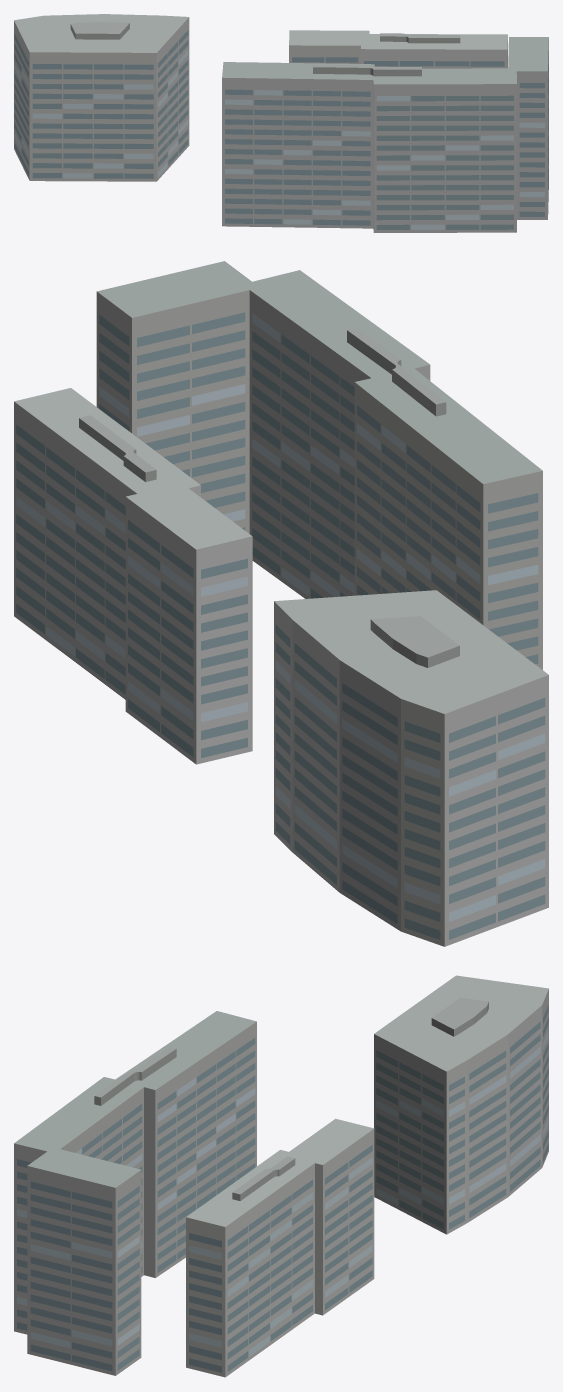
Rendered from apt-a13280104.glb.
The picture shows the model from 3 angles, top to bottom: view 1: azimuth 30°, elevation 25°; view 2: azimuth 150°, elevation 25°; view 3: azimuth 270°, elevation 25°; orthographic projection. The views are drawn at different scales.
Parts seen in each view (by area): view 1: apt-a13280104; view 2: apt-a13280104; view 3: apt-a13280104.
Boxes of the visible parts, <box> form: apt-a13280104: <box>14,14,548,232</box>; apt-a13280104: <box>14,261,548,946</box>; apt-a13280104: <box>14,975,548,1377</box>.
Size of the model in its own units: 125 by 47.81 by 118.
